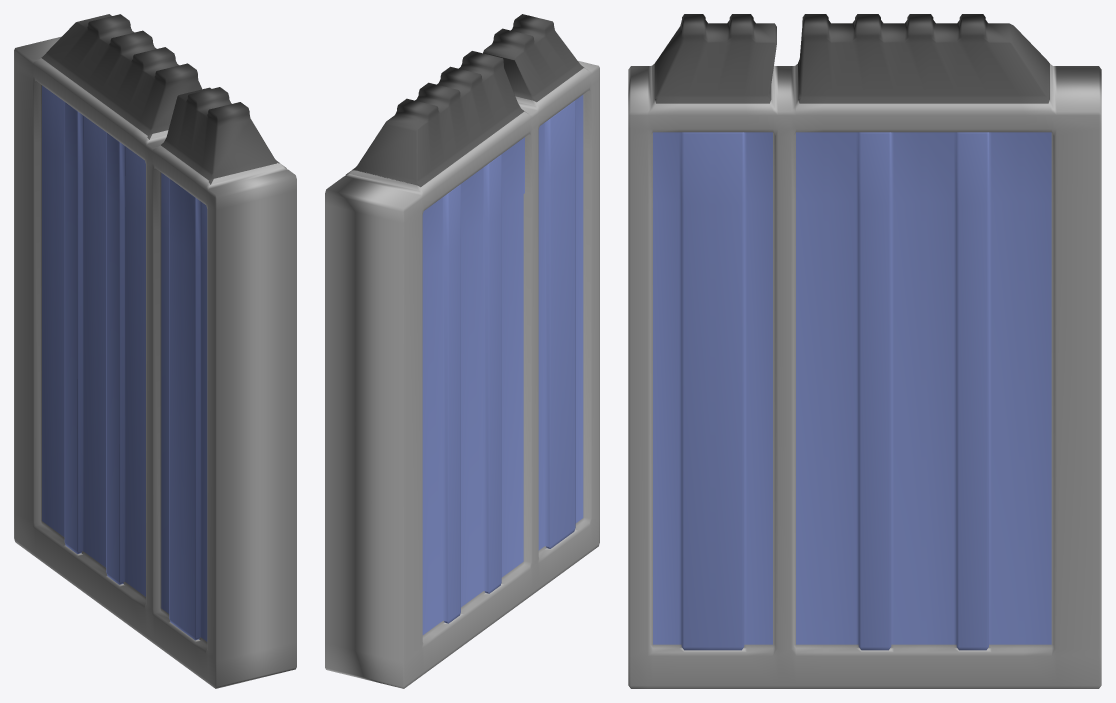
3 views of the same model, side by side, from view 1: azimuth 30°, elevation 25°; view 2: azimuth 150°, elevation 25°; view 3: azimuth 270°, elevation 25° (orthographic). The views are drawn at different scales.
Parts seen in each view (by area): view 1: Cube; view 2: Cube; view 3: Cube.
Part boxes in pixels (x1,y1,x2,y2): Cube: (14,14,296,688); Cube: (325,14,599,688); Cube: (628,14,1101,688).
Bounding box in the file's own units: 60 × 390 × 260.
